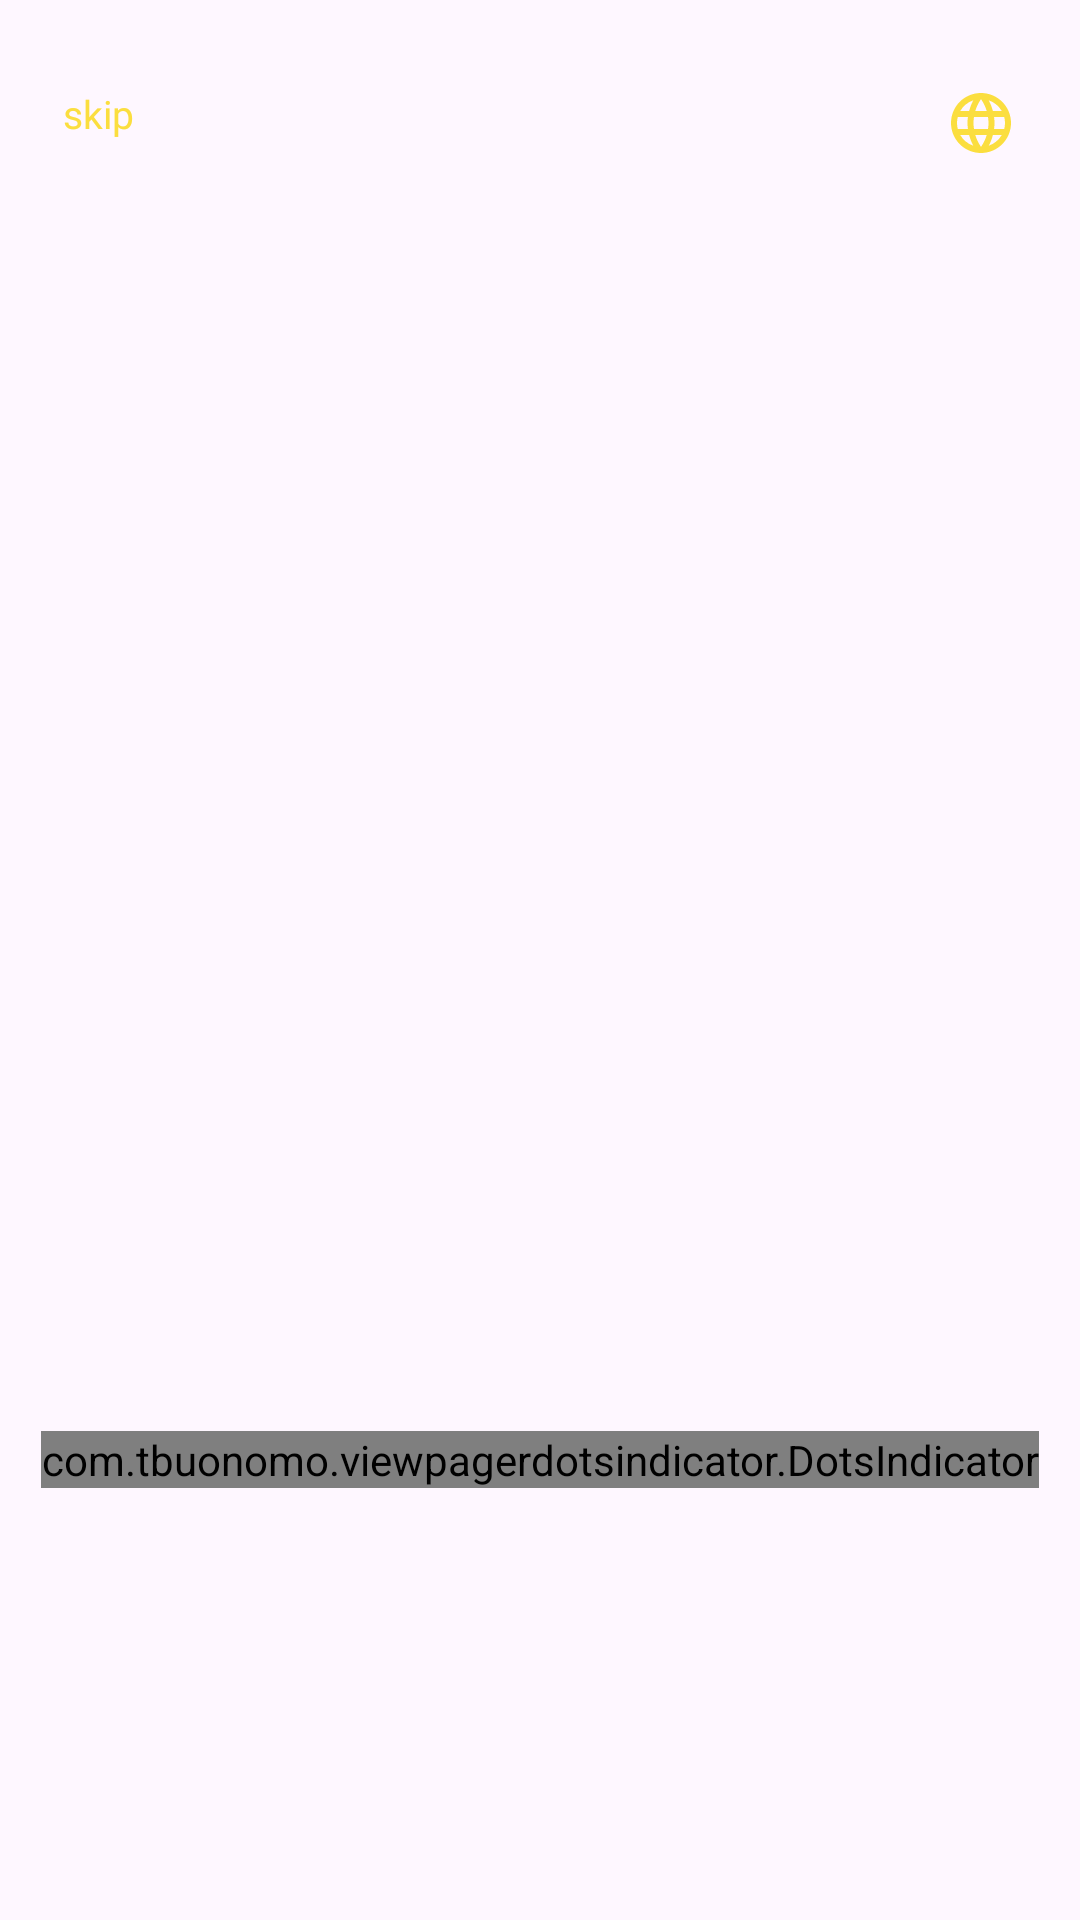

Icons on this 1080×1920 Android screen, each with its box as box=[x1, y1, x2, y2]:
language: box=[951, 93, 1011, 153]
